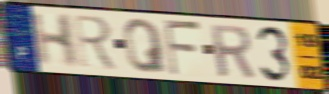3: (252, 24, 292, 84)
F: (161, 17, 204, 79)
H: (29, 12, 79, 69)
Q: (122, 17, 169, 75)
R: (70, 12, 120, 73), (207, 22, 257, 79)
